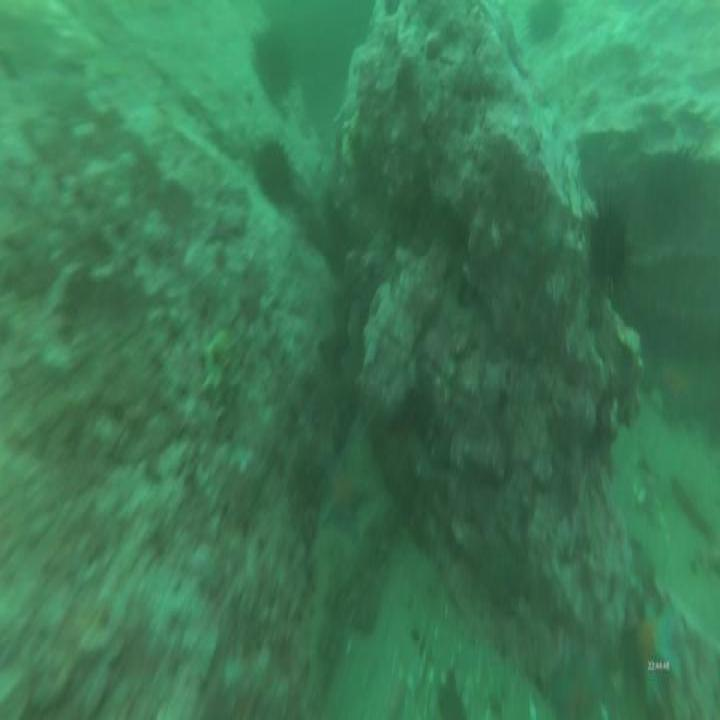echinus: (587, 190, 634, 297), (250, 128, 298, 217), (247, 21, 297, 103), (521, 0, 568, 48), (435, 663, 469, 720)
holothurian: (337, 528, 375, 631)
starfish: (623, 590, 689, 711), (548, 640, 618, 720), (317, 453, 375, 544), (651, 341, 705, 425)
